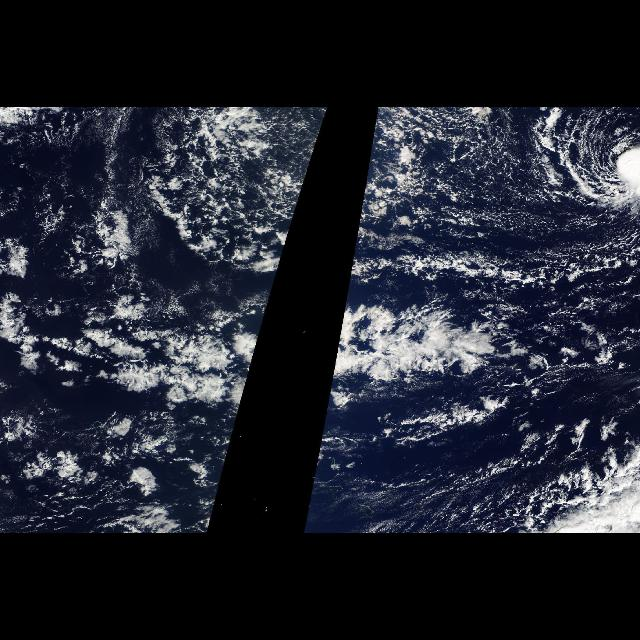Flower: (5, 210, 275, 508), (322, 286, 502, 432)
Gravel: (348, 113, 594, 270), (182, 113, 328, 270)
Sugar: (0, 266, 280, 447), (317, 266, 548, 447)
